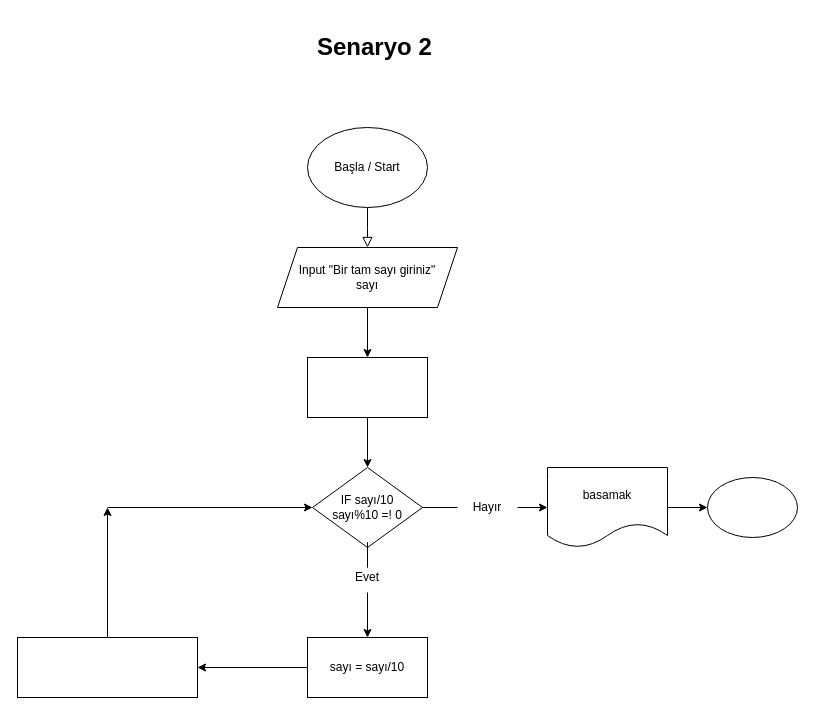
The diagram is 815 pixels wide and 715 high, and some of its shapes have lost their labels. Here are the shapes that lost their labels. From the top down, the centre of each, then its label:
the point at 367,387: basamak = 1
the point at 752,507: Bitir / End
the point at 107,667: basamak_sayısı = basamak + 1
